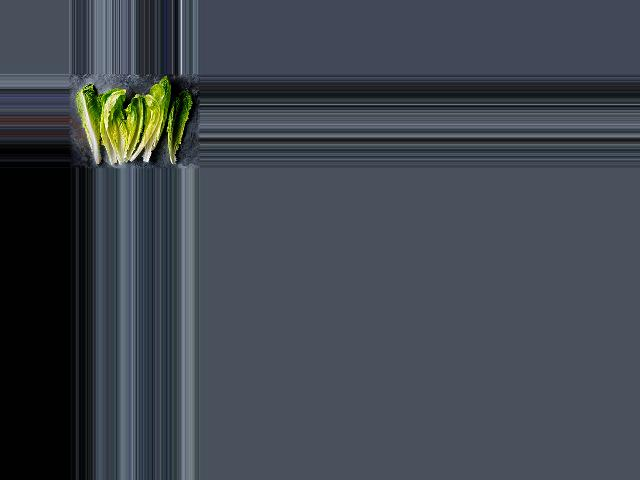lettuce: (165, 91, 190, 167)
